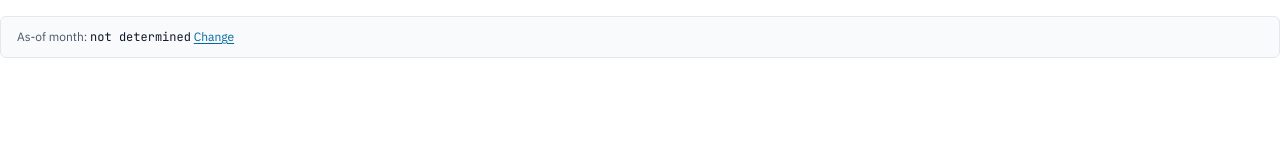
Test: the assumptions strip: the as-of month › mapped files and no confirmed month read 'As-of month: not determined' with Change; files being read say so; no file reads 'not set'
Later steps or results of the test are not shown.
What coordinates should you click on to do the following:
click the button "Change"
I would click on:
 (214, 37)
Its box is x1=194 y1=29 x2=234 y2=45.
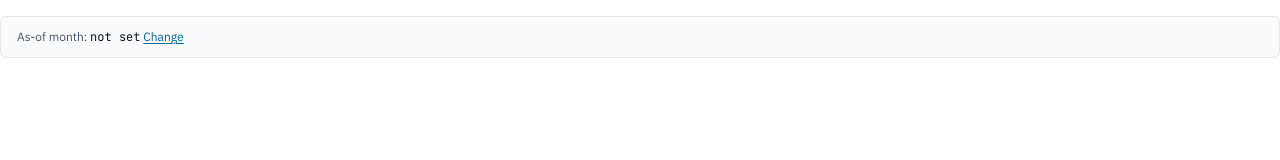
Check: the element showing "As-of month: not set Change" is shown, box x1=17 y1=29 x2=184 y2=45
